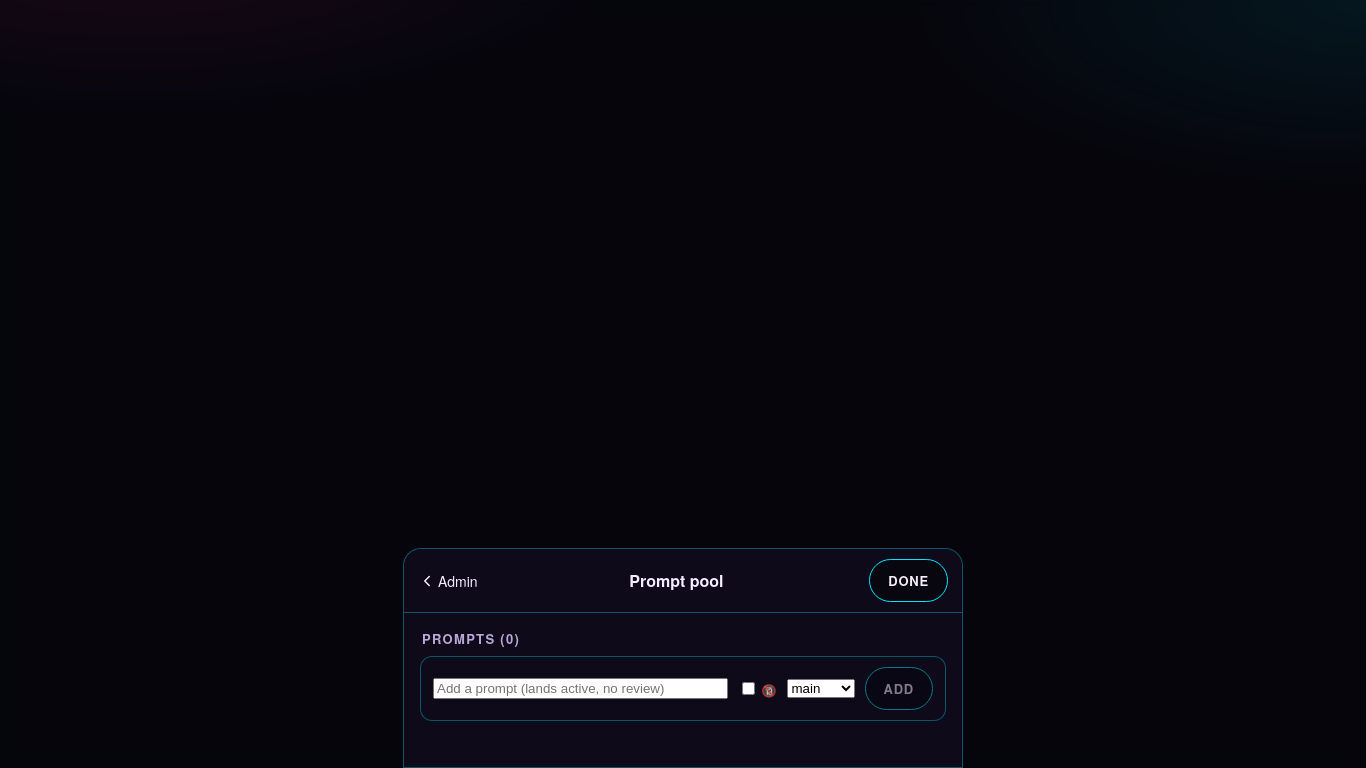
Test: AsyncButton affordance on moderation actions (specs/admin-async-feedback.md) › a rejected curated add keeps the draft text and shows the add-specific alert
Type "Fragile prompt" into the field named "New prompt text". click: {"x": 581, "y": 688}
box: [433, 678, 728, 699]
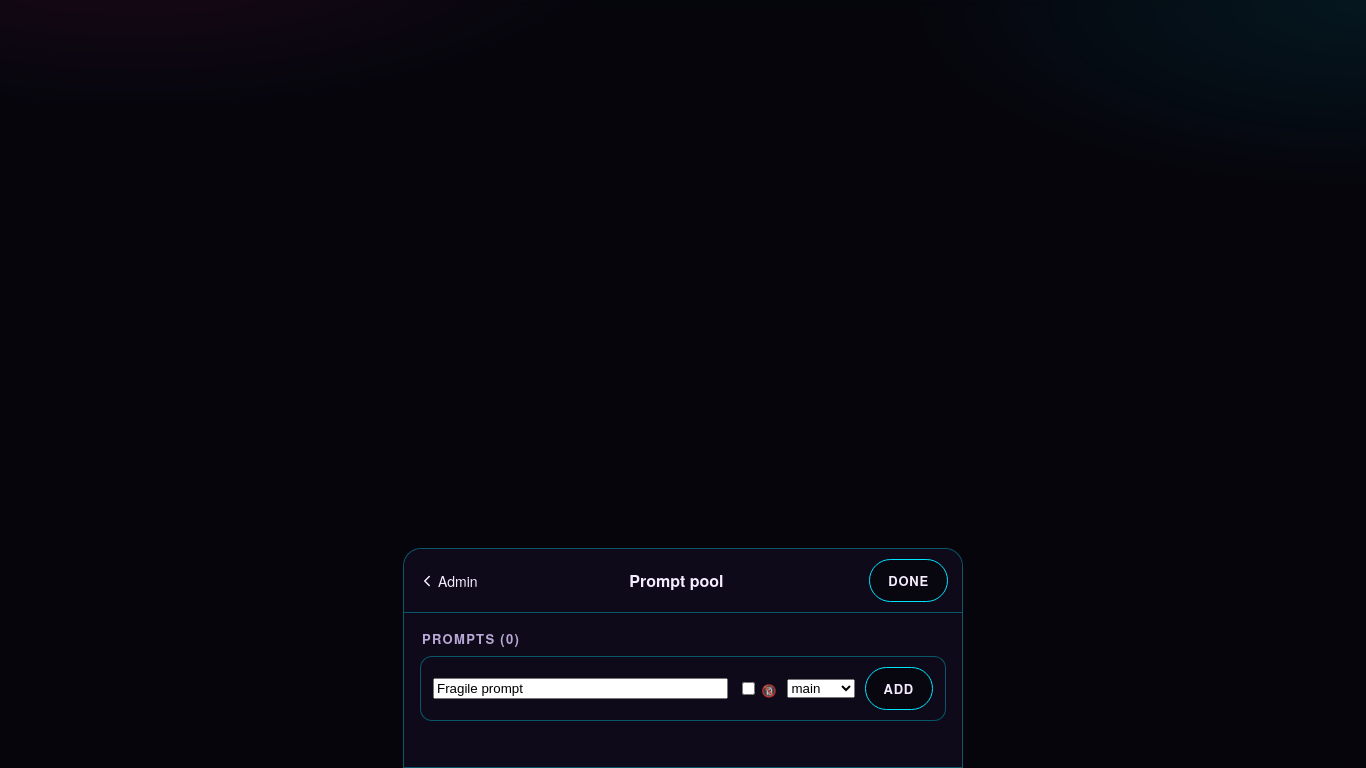
Click the button "Add". click: {"x": 899, "y": 688}
box: [864, 667, 933, 710]
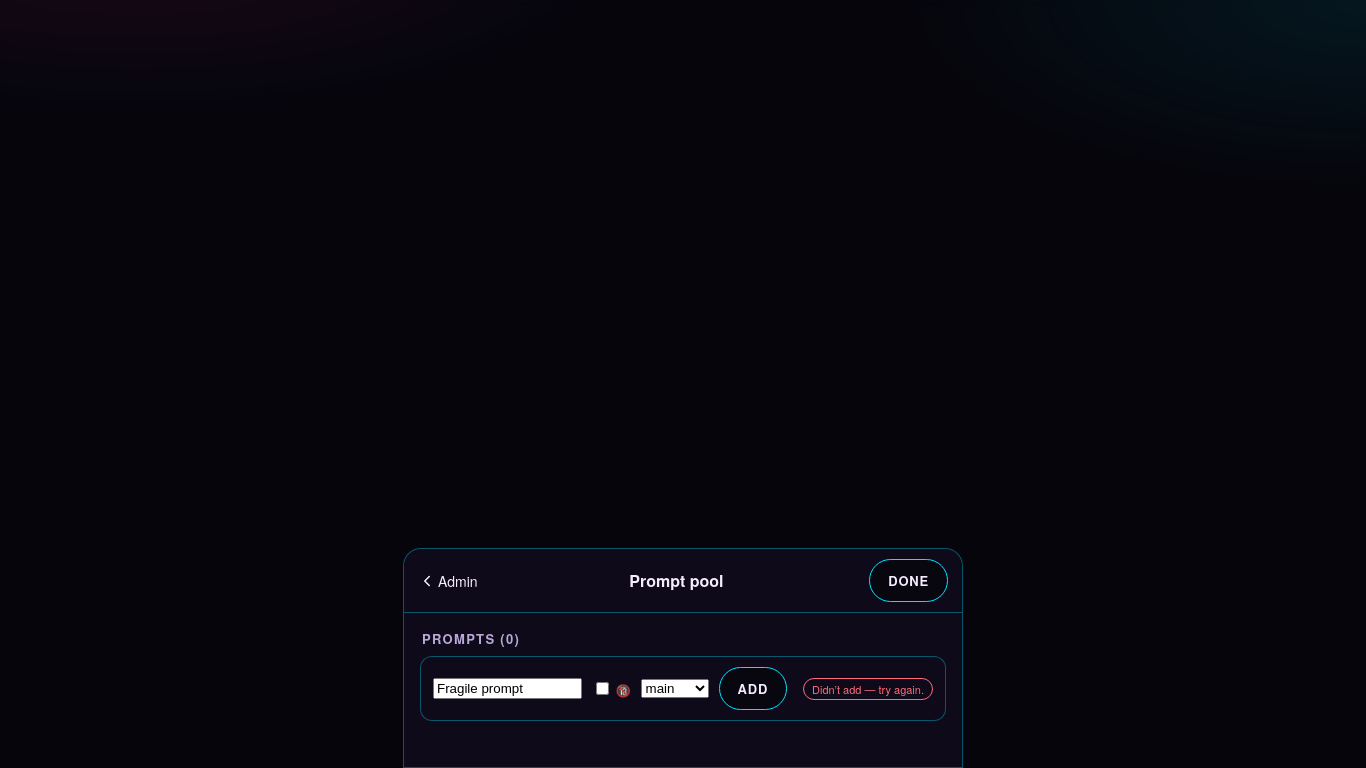
Expected: the message reads "Didn’t add — try again.", [812, 680, 924, 696]
